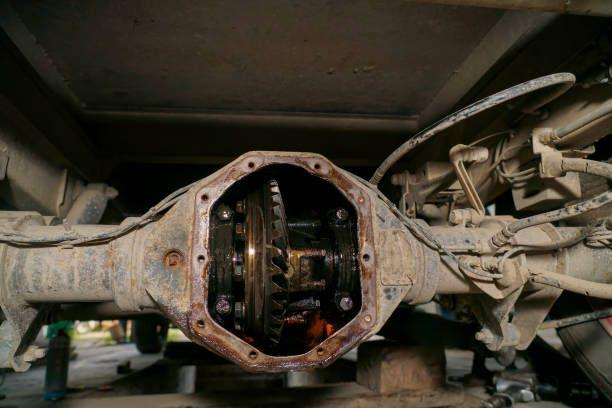automobile: (0, 0, 612, 356)
